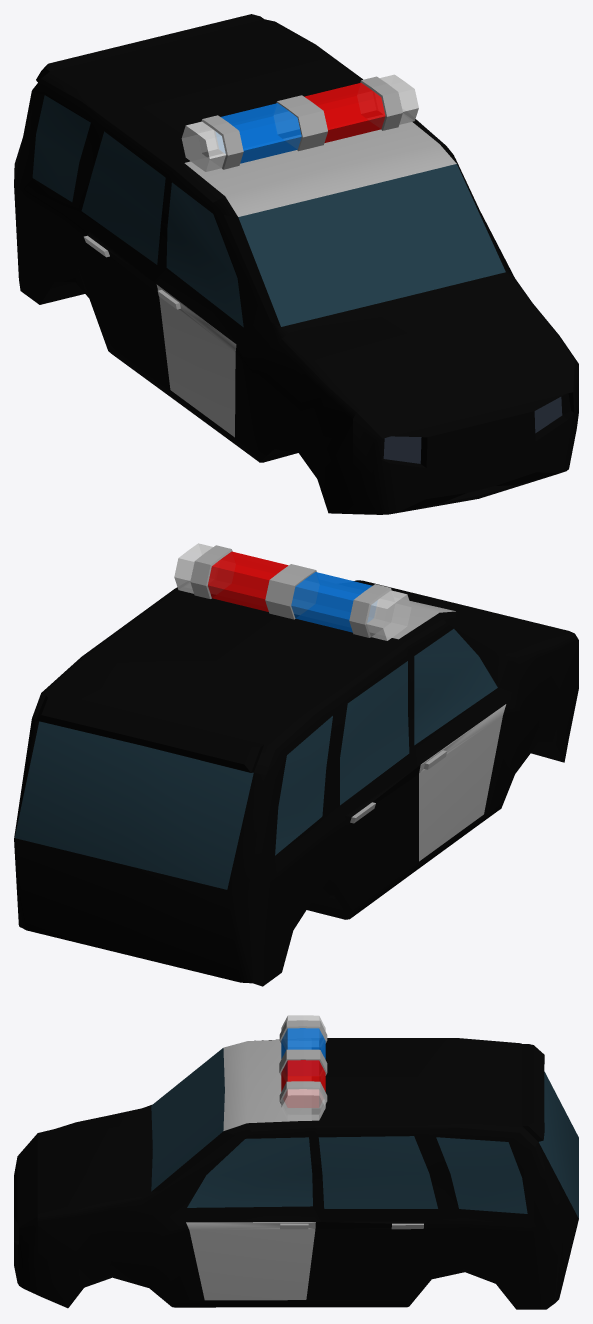
Rendered from PoliceCruiser.fbx.
3 views of the same model, one above another, from view 1: azimuth 30°, elevation 25°; view 2: azimuth 150°, elevation 25°; view 3: azimuth 270°, elevation 25° (orthographic). The views are drawn at different scales.
Parts seen in each view (by area): view 1: pCube1, pCylinder1; view 2: pCube1, pCylinder1; view 3: pCube1, pCylinder1.
Part boxes in pixels (bbox=[...]): pCube1: bbox=[14, 14, 578, 514]; pCylinder1: bbox=[181, 74, 418, 171]; pCube1: bbox=[14, 580, 578, 986]; pCylinder1: bbox=[174, 543, 411, 640]; pCube1: bbox=[14, 1038, 578, 1309]; pCylinder1: bbox=[279, 1015, 327, 1120].
Bounding box in the file's own units: 11.09 × 10.47 × 25.42.
